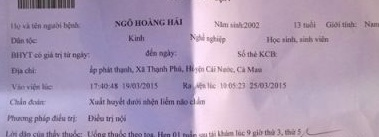add: (147, 63, 169, 76), (218, 63, 237, 76), (186, 64, 206, 75), (247, 63, 265, 75), (114, 65, 135, 75), (169, 63, 185, 76), (98, 65, 113, 75), (206, 63, 217, 75), (88, 64, 99, 75), (237, 64, 247, 76), (135, 64, 146, 74)
birth: (242, 19, 261, 30)
come_time: (122, 81, 159, 92), (90, 82, 119, 92)
diagnostic: (106, 97, 126, 107), (88, 96, 106, 106), (190, 96, 206, 107), (126, 97, 143, 107), (160, 97, 175, 108), (142, 97, 160, 106), (176, 97, 190, 106)
job: (263, 34, 281, 45), (315, 35, 332, 45), (282, 34, 296, 45), (299, 34, 314, 44)
name: (134, 16, 166, 28), (112, 16, 134, 29), (166, 15, 185, 28)
nation: (126, 32, 146, 43)
note: (264, 126, 283, 137), (284, 126, 303, 137), (86, 128, 107, 137), (107, 128, 127, 137), (236, 126, 251, 137), (218, 128, 235, 137), (127, 128, 143, 137), (251, 126, 264, 137), (182, 127, 196, 137), (155, 129, 172, 137), (197, 127, 208, 137), (142, 129, 155, 137), (172, 128, 182, 137), (206, 129, 217, 137)
out_time: (248, 81, 286, 90), (218, 81, 246, 89)
sex: (361, 19, 379, 29)
solution: (87, 113, 105, 124), (115, 113, 129, 124), (105, 113, 115, 124)
